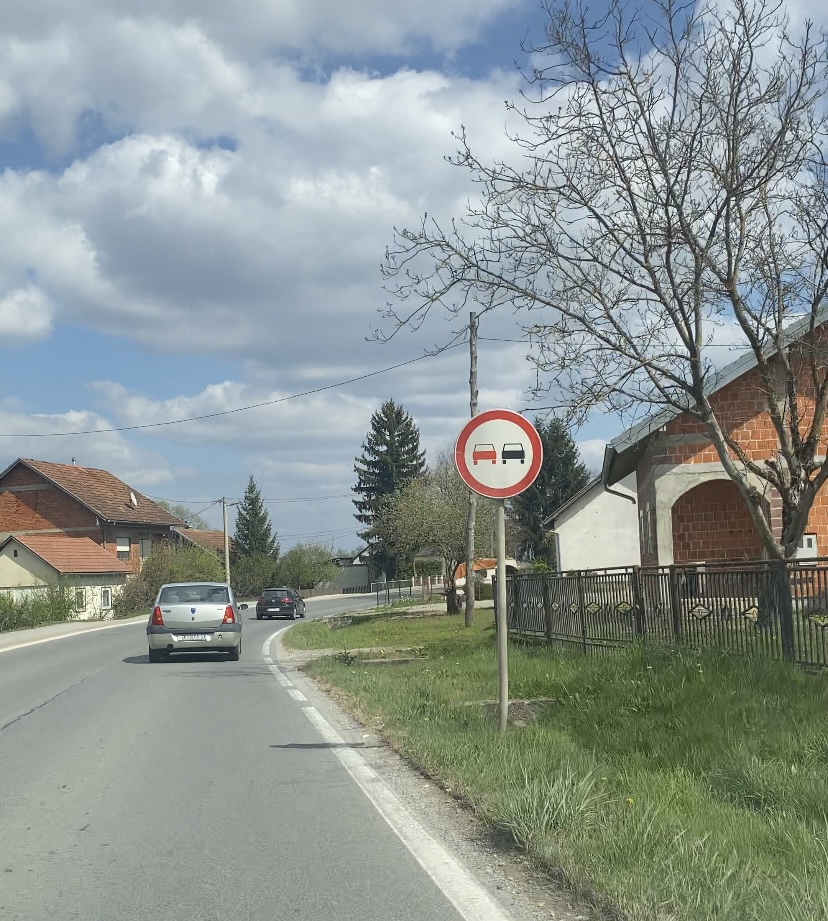Zabrana pretjecanja: (455, 408, 543, 499)
